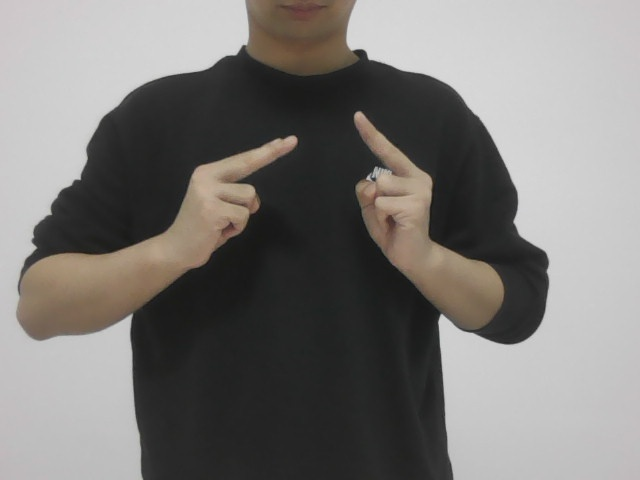know: (154, 109, 444, 295)
